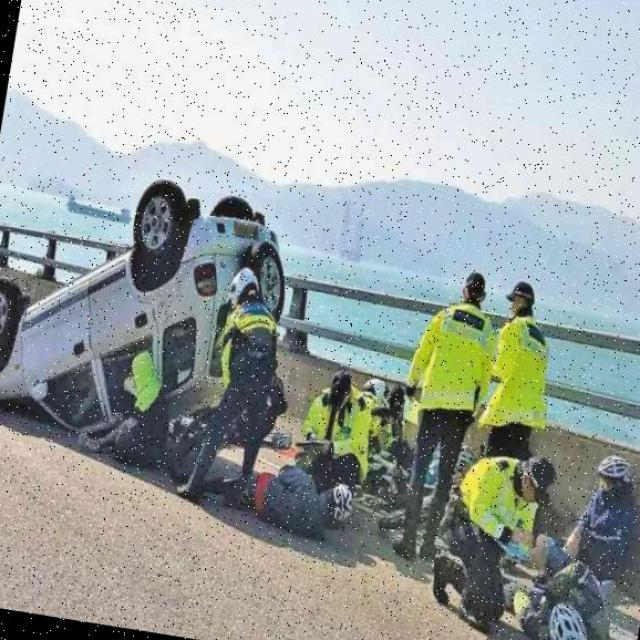accident: (0, 154, 310, 504)
